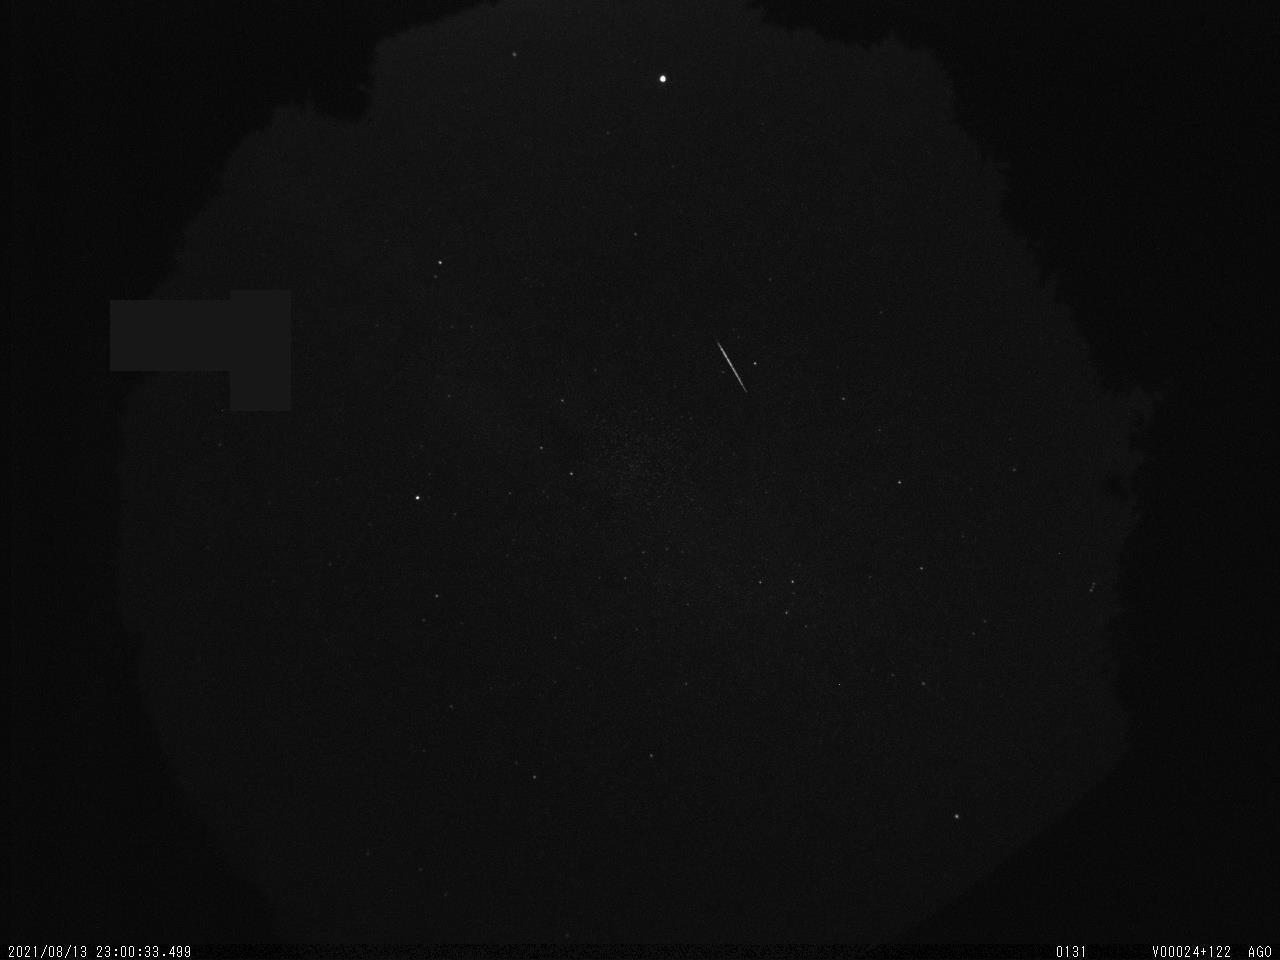Meteor: (715, 339, 750, 394)
